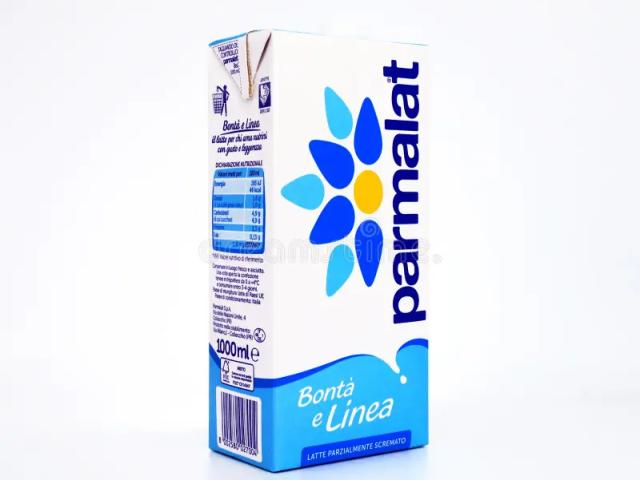drink_box: (204, 21, 441, 474)
